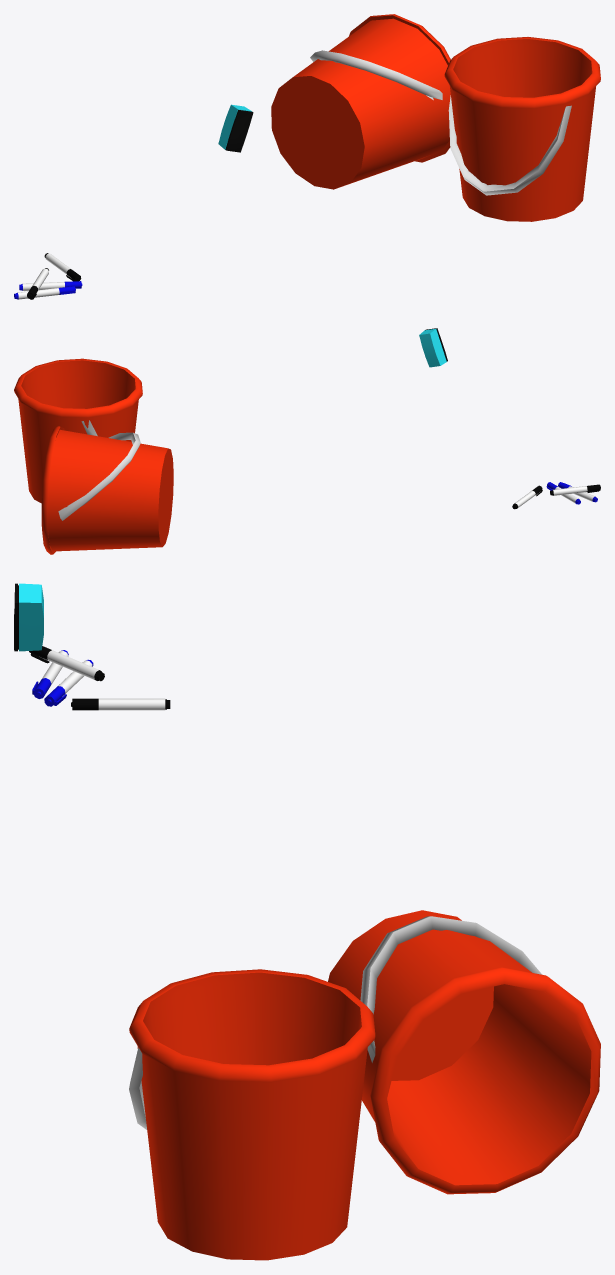
Rendered from Ensemble2.FBX.
The picture shows the model from 3 angles, top to bottom: view 1: azimuth 30°, elevation 25°; view 2: azimuth 150°, elevation 25°; view 3: azimuth 270°, elevation 25°; orthographic projection. The views are drawn at different scales.
Parts seen in each view (by area): view 1: Seau2, Seau1, Box001, MarqueurB1, MarqueurB2; view 2: Seau1, Seau2, Box001, MarqueurN1; view 3: Seau2, Seau1, Box001, MarqueurN2, MarqueurN1.
Part boxes in pixels (x1,y1,x2,y2): Seau2: (444, 37, 600, 221); Seau1: (271, 14, 450, 189); Box001: (218, 104, 253, 152); MarqueurB1: (14, 286, 75, 299); MarqueurB2: (19, 281, 82, 290); Seau1: (41, 426, 173, 554); Seau2: (14, 358, 142, 503); Box001: (419, 328, 447, 367); MarqueurN1: (550, 484, 600, 495); Seau2: (129, 969, 375, 1260); Seau1: (328, 910, 600, 1194); Box001: (14, 583, 43, 651); MarqueurN2: (71, 698, 170, 710); MarqueurN1: (29, 646, 104, 681).
Bounding box in the file's own units: 121 × 42.84 × 61.6.
